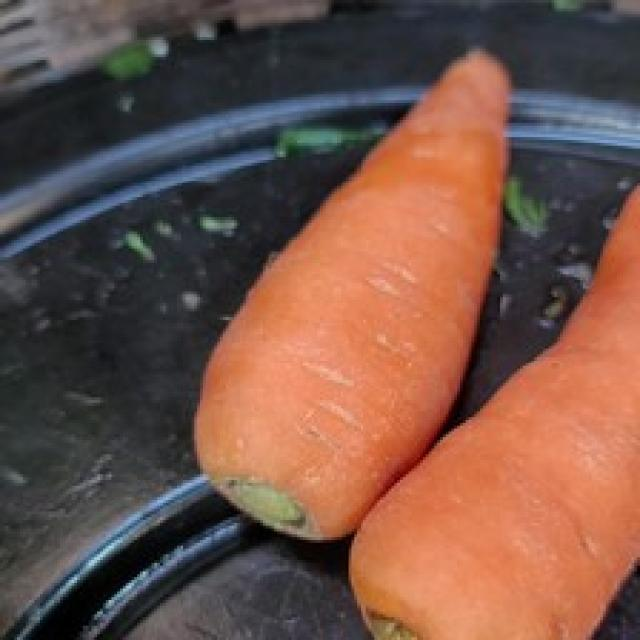carrot: (192, 54, 512, 542), (354, 185, 640, 639)
